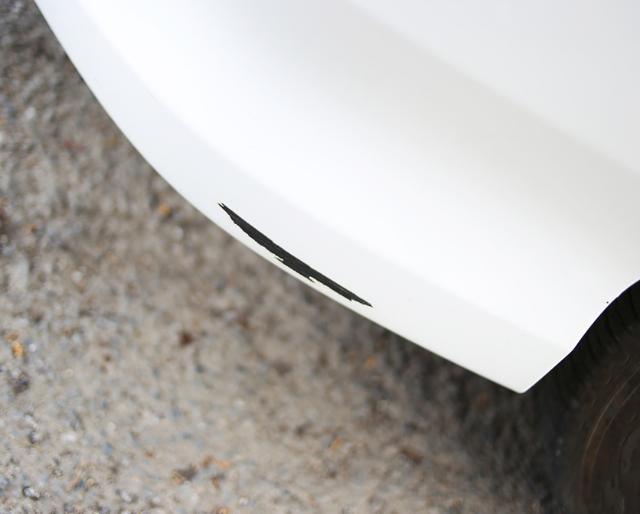Bumper: (197, 176, 378, 324)
